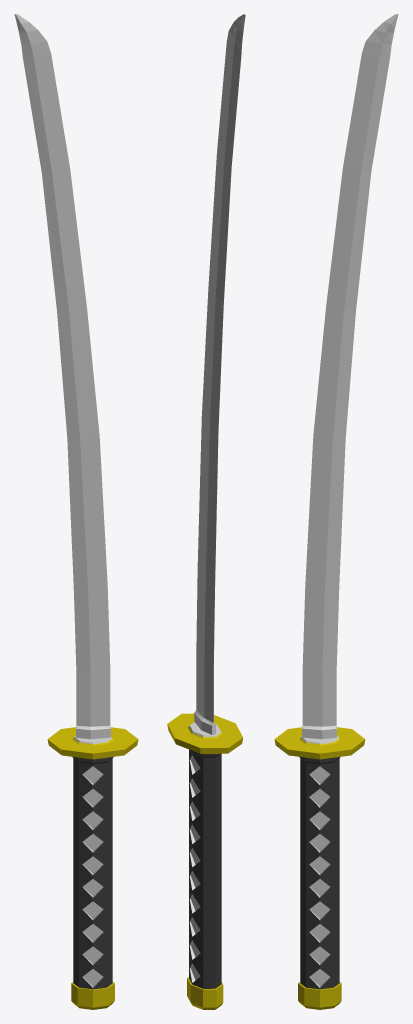
Rendered from katana_bright_blade.glb.
3 views of the same model, side by side, from view 1: azimuth 90°, elevation 25°; view 2: azimuth 210°, elevation 25°; view 3: azimuth 270°, elevation 25° (orthographic). The views are drawn at different scales.
Parts seen in each view (by area): view 1: Object_4, Object_2, Object_3; view 2: Object_4, Object_2, Object_3; view 3: Object_4, Object_2, Object_3.
Boxes of the visible parts, <box> form: Object_4: <box>14,14,111,987</box>; Object_2: <box>72,757,113,989</box>; Object_3: <box>47,727,138,1009</box>; Object_4: <box>189,14,245,982</box>; Object_2: <box>189,749,221,988</box>; Object_3: <box>167,713,243,1009</box>; Object_4: <box>301,14,398,987</box>; Object_2: <box>299,757,340,989</box>; Object_3: <box>274,727,365,1009</box>.
Bounding box in the file's own units: 0.0649 × 1.04 × 0.1183.
